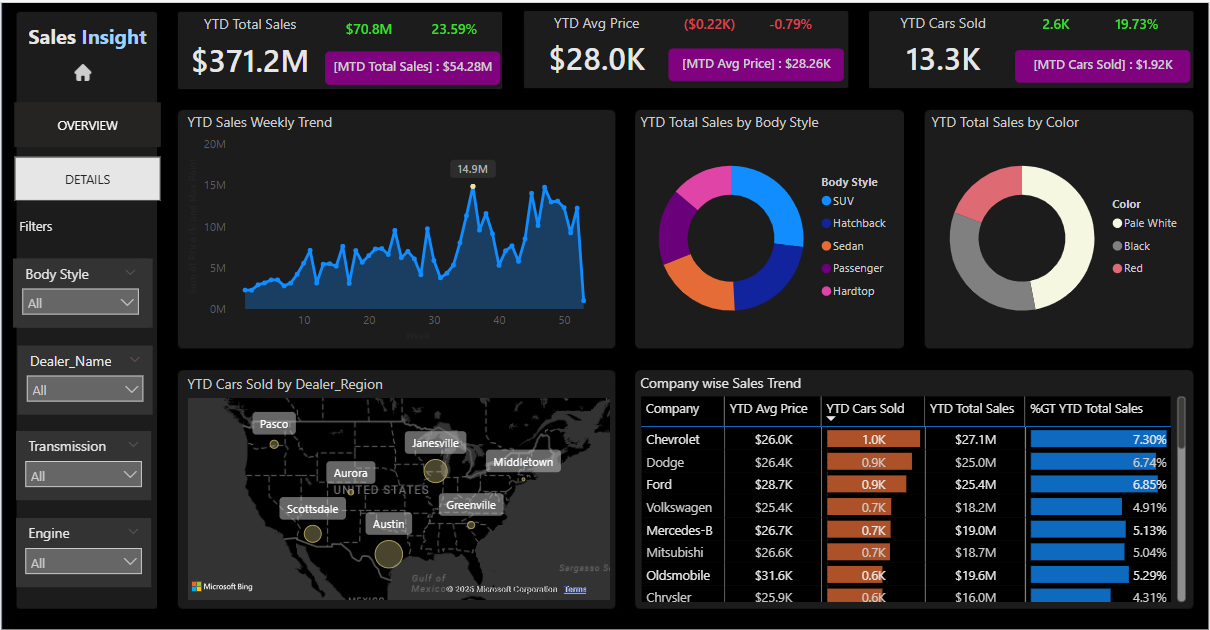

Layout of this report page (visuals, bound fields, positions):
{"tool":"powerbi","page":{"name":"OVERVIEW","canvas":[1280,720],"ordinal":0},"visuals":[{"type":"card","title":"YTD Total Sales","fields":{"Values":["car_data.YTD Total Sales"]},"box":[187.7,63.6,152.7,76.3],"z":0},{"type":"card","title":"YTD Total Sales","fields":{"Values":["car_data.Sales Difference"]},"box":[346.8,66.8,85.9,28.6],"z":1000},{"type":"card","title":"YTD Total Sales","fields":{"Values":["car_data.YoY Sales Growth"]},"box":[437.4,66.8,85.9,28.6],"z":2000},{"type":"card","fields":{"Values":["car_data.MTD KPI"]},"box":[343.6,103.4,186.1,35],"z":3000},{"type":"card","title":"YTD Avg Price","fields":{"Values":["car_data.YTD Avg Price"]},"box":[555.1,62,152.7,76.3],"z":4000},{"type":"card","title":"YTD Total Sales","fields":{"Values":["car_data.Avg Price Diff"]},"box":[707.8,62,85.9,28.6],"z":5000},{"type":"card","title":"YTD Total Sales","fields":{"Values":["car_data.YoY Avg Price Growth"]},"box":[793.7,62,85.9,28.6],"z":6000},{"type":"card","fields":{"Values":["car_data.MTD Avg Price KPI"]},"box":[707.8,100.2,186.1,35],"z":7000},{"type":"card","title":"YTD Cars Sold","fields":{"Values":["car_data.YTD Cars Sold"]},"box":[922.6,62,152.7,76.3],"z":8000},{"type":"card","title":"YTD Total Sales","fields":{"Values":["car_data.Cars Sold Diff"]},"box":[1075.3,62,85.9,28.6],"z":9000},{"type":"card","title":"YTD Total Sales","fields":{"Values":["car_data.YoY Cars Sold Growth"]},"box":[1161.1,62,85.9,28.6],"z":10000},{"type":"card","fields":{"Values":["car_data.MTD Cars Sold KPI"]},"box":[1075.3,101.8,186.1,35],"z":11000},{"type":"areaChart","title":"YTD Sales Weekly Trend ","fields":{"Category":["Calender Table.Week"],"Y":["Sum(car_data.Price ($))","car_data.Max Point"]},"box":[192.5,167,447,248.1],"z":12000},{"type":"donutChart","fields":{"Category":["car_data.Body Style"],"Y":["car_data.YTD Total Sales"]},"box":[672.8,167,279.9,248.1],"z":13000},{"type":"donutChart","fields":{"Y":["car_data.YTD Total Sales"],"Category":["car_data.Color"]},"box":[981.4,167,279.9,248.1],"z":14000},{"type":"map","fields":{"Category":["car_data.Dealer_Region"],"Size":["car_data.YTD Cars Sold"]},"box":[192.5,445.4,458.1,245],"z":15000},{"type":"tableEx","title":"Company wise Sales Trend","fields":{"Values":["car_data.Company","car_data.YTD Avg Price","car_data.YTD Cars Sold","car_data.YTD Total Sales","Divide(car_data.YTD Total Sales, ScopedEval(car_data.YTD Total Sales, []))"]},"box":[672.8,443.8,588.5,248.1],"z":16000},{"type":"textbox","box":[432.6,0,509,42.9],"z":16001},{"type":"slicer","fields":{"Values":["car_data.Body Style"]},"box":[17.5,322.9,143.2,73.2],"z":16002},{"type":"slicer","fields":{"Values":["car_data.Dealer_Name"]},"box":[17.5,415.1,143.2,73.2],"z":16003},{"type":"slicer","fields":{"Values":["car_data.Transmission"]},"box":[15.9,505.8,143.2,73.2],"z":16004},{"type":"slicer","fields":{"Values":["car_data.Engine"]},"box":[15.9,598.1,143.2,73.2],"z":16005},{"type":"textbox","box":[23.9,66.8,163.8,39.8],"z":16006},{"type":"textbox","box":[14.3,273.6,60.4,33.4],"z":16007},{"type":"slicer","fields":{"Values":["car_data.Body Style"]},"box":[12.7,322.9,143.2,73.2],"z":16008},{"type":"pageNavigator","box":[14.3,157.5,155.9,105],"z":16009},{"type":"image","box":[65.2,111.3,42.9,28.6],"z":16010}]}

Visuals, with their boxes on the page's 1280x720 design canvas (x1, y1, x2, y2). These are canvas units, not pixel positions in the 1210x630 screenshot, which may show the page scaled, cropped or inside an application window:
"YTD Total Sales" card: bbox=(188, 64, 340, 140)
"YTD Total Sales" card: bbox=(347, 67, 433, 95)
"YTD Total Sales" card: bbox=(437, 67, 523, 95)
card - car_data.MTD KPI: bbox=(344, 103, 530, 138)
"YTD Avg Price" card: bbox=(555, 62, 708, 138)
"YTD Total Sales" card: bbox=(708, 62, 794, 91)
"YTD Total Sales" card: bbox=(794, 62, 880, 91)
card - car_data.MTD Avg Price KPI: bbox=(708, 100, 894, 135)
"YTD Cars Sold" card: bbox=(923, 62, 1075, 138)
"YTD Total Sales" card: bbox=(1075, 62, 1161, 91)
"YTD Total Sales" card: bbox=(1161, 62, 1247, 91)
card - car_data.MTD Cars Sold KPI: bbox=(1075, 102, 1261, 137)
"YTD Sales Weekly Trend " areaChart: bbox=(192, 167, 640, 415)
donutChart - car_data.Body Style x car_data.YTD Total Sales: bbox=(673, 167, 953, 415)
donutChart - car_data.YTD Total Sales x car_data.Color: bbox=(981, 167, 1261, 415)
map - car_data.Dealer_Region x car_data.YTD Cars Sold: bbox=(192, 445, 651, 690)
"Company wise Sales Trend" tableEx: bbox=(673, 444, 1261, 692)
textbox: bbox=(433, 0, 942, 43)
slicer - car_data.Body Style: bbox=(18, 323, 161, 396)
slicer - car_data.Dealer_Name: bbox=(18, 415, 161, 488)
slicer - car_data.Transmission: bbox=(16, 506, 159, 579)
slicer - car_data.Engine: bbox=(16, 598, 159, 671)
textbox: bbox=(24, 67, 188, 107)
textbox: bbox=(14, 274, 75, 307)
slicer - car_data.Body Style: bbox=(13, 323, 156, 396)
pageNavigator: bbox=(14, 158, 170, 262)
image: bbox=(65, 111, 108, 140)
